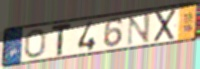4: (77, 20, 98, 53)
6: (103, 16, 125, 49)
N: (125, 12, 152, 47)
O: (24, 28, 47, 59)
T: (50, 21, 74, 57)
X: (152, 7, 178, 44)
